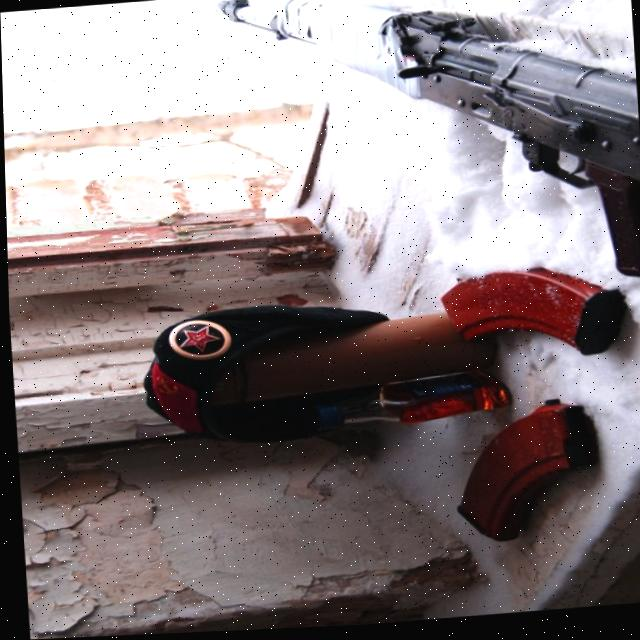firearm: (209, 0, 640, 312)
